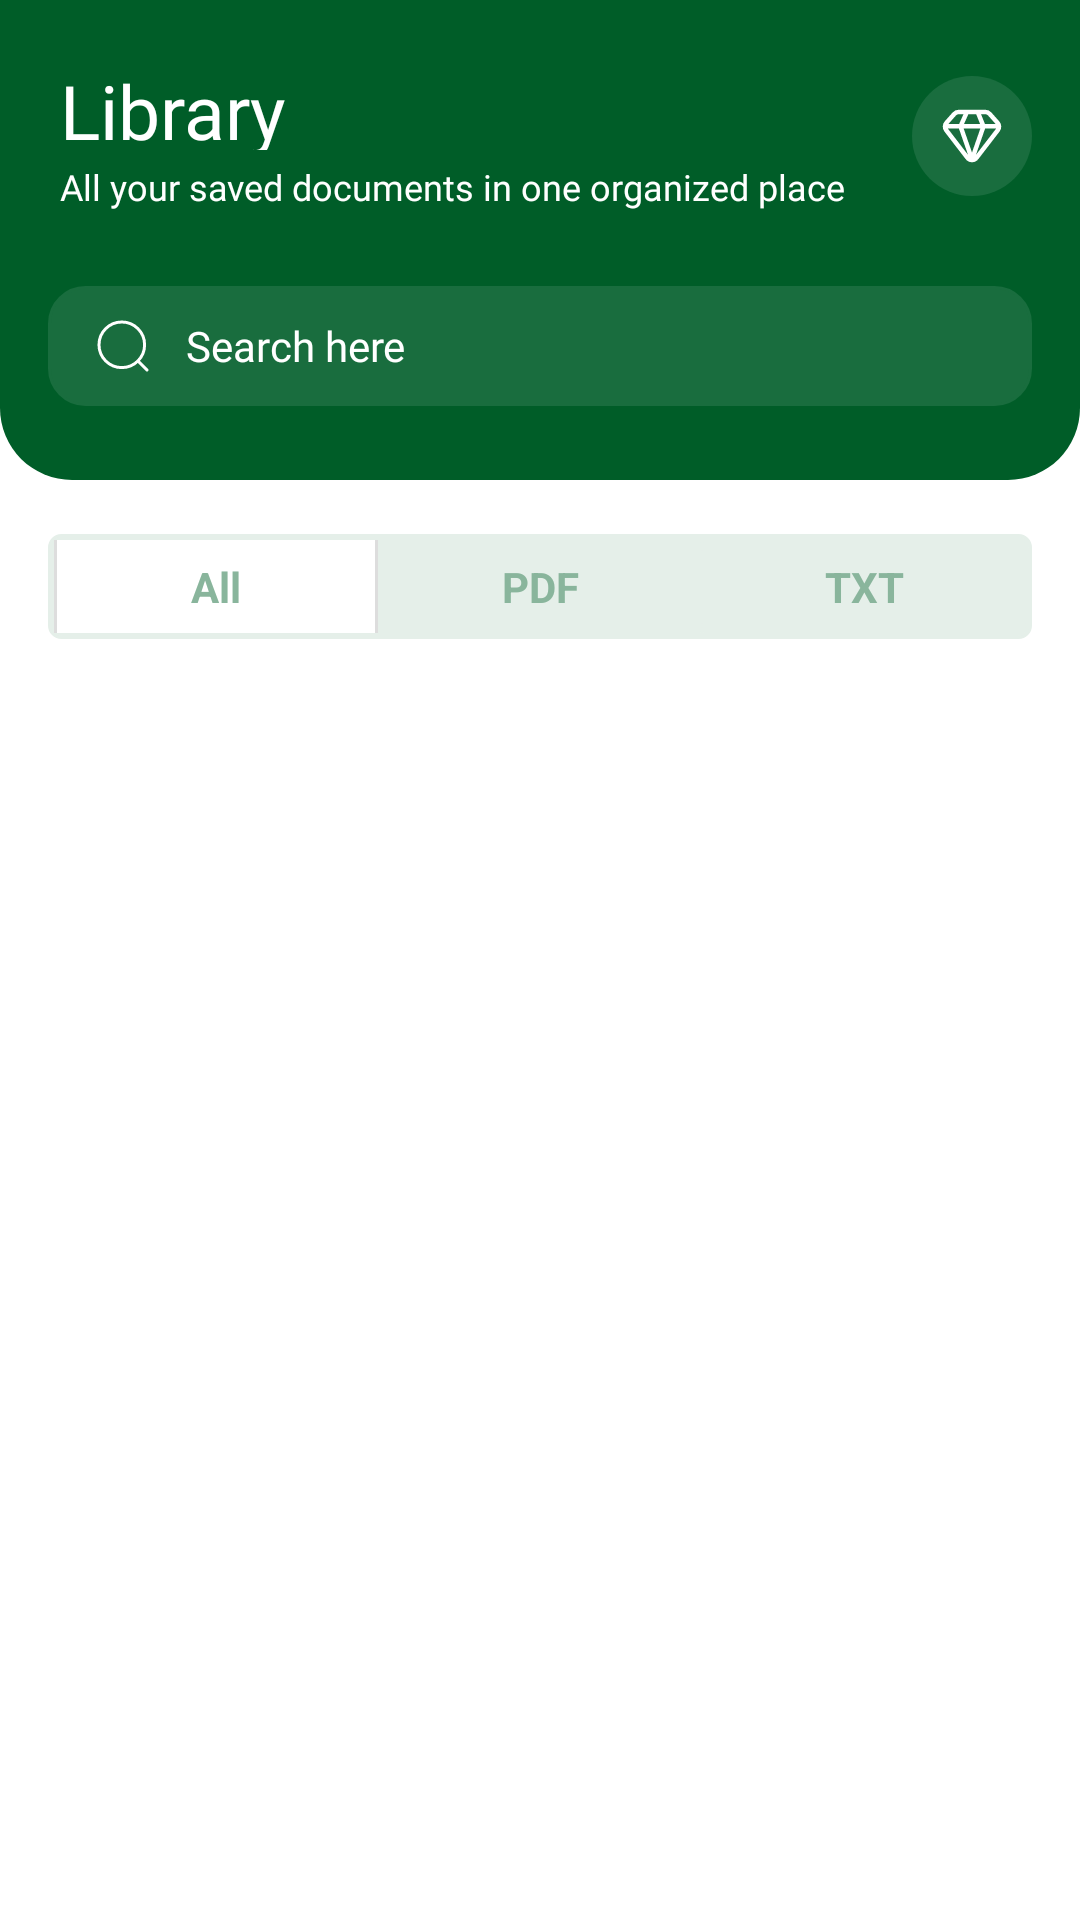

Icon bounding boxes for this 1080 × 1920 phone screenshot, format (x1, y1, x2, y2):
daimond: (913, 76, 1031, 196)
